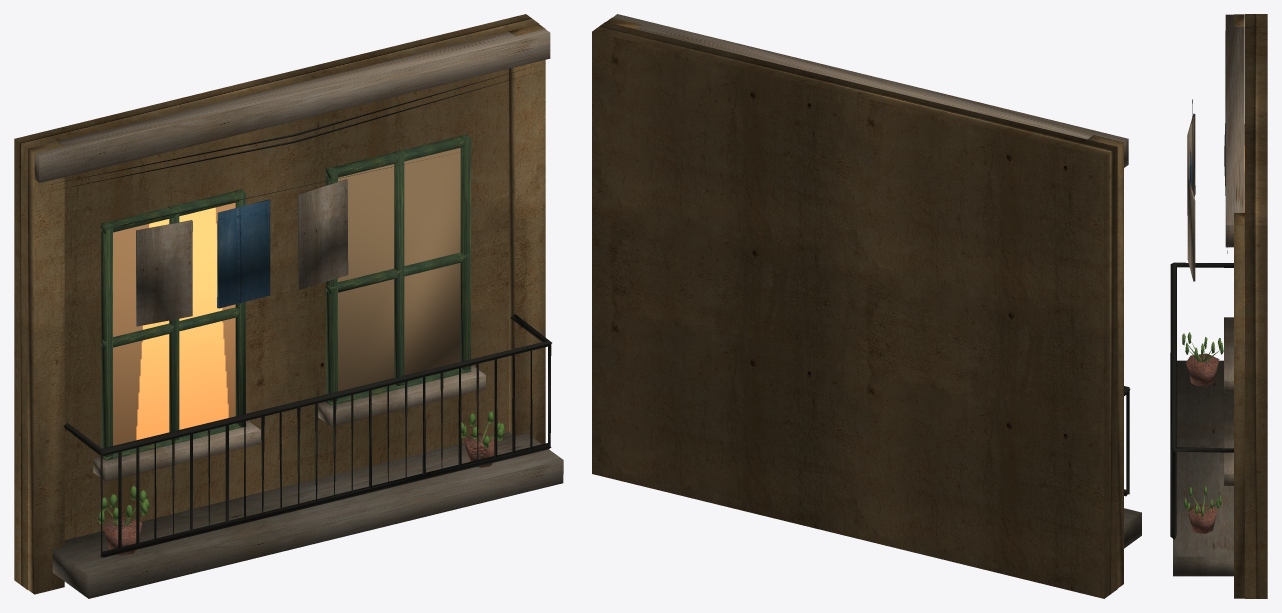
File: mat_tien_tang_01_lod1.glb
The picture shows the model from 3 angles, left to right: view 1: azimuth 30°, elevation 25°; view 2: azimuth 150°, elevation 25°; view 3: azimuth 270°, elevation 25°; orthographic projection. The views are drawn at different scales.
Visible parts, largest first — view 1: mat_tien_tang_01.001; view 2: mat_tien_tang_01.001; view 3: mat_tien_tang_01.001.
Boxes of the visible parts, x1,y1,x2,y2 form: mat_tien_tang_01.001: (14, 14, 563, 598); mat_tien_tang_01.001: (592, 14, 1141, 598); mat_tien_tang_01.001: (1170, 14, 1267, 598).
Bounding box in the file's own units: 4 × 3.3 × 0.7776.
3 materials, 2 textured.
